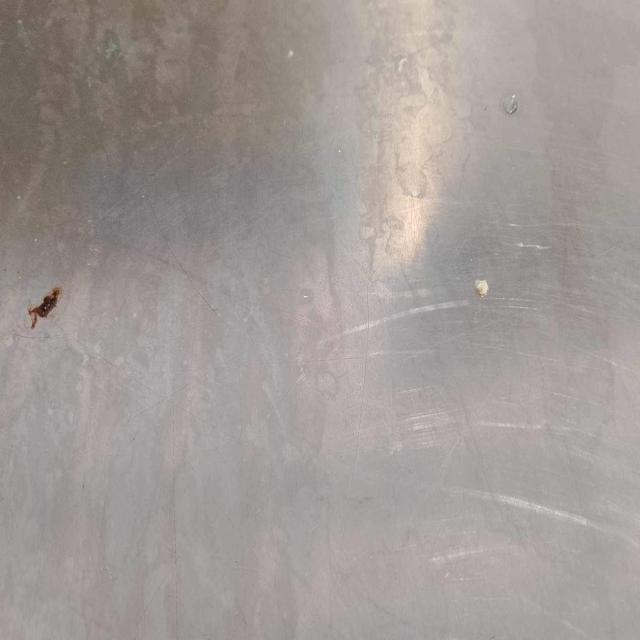Infectious: (28, 286, 62, 329), (474, 278, 488, 297)
Pathological: (2, 3, 636, 636)
Sharps: (502, 92, 518, 116)
